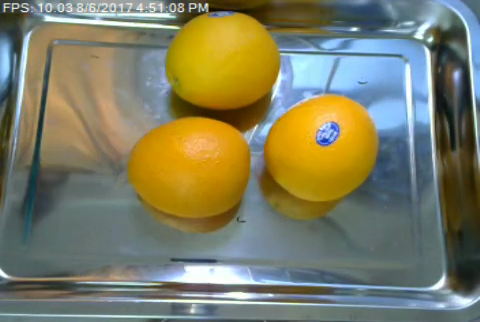Orange: (129, 115, 250, 218), (265, 93, 378, 202), (164, 11, 280, 110)
